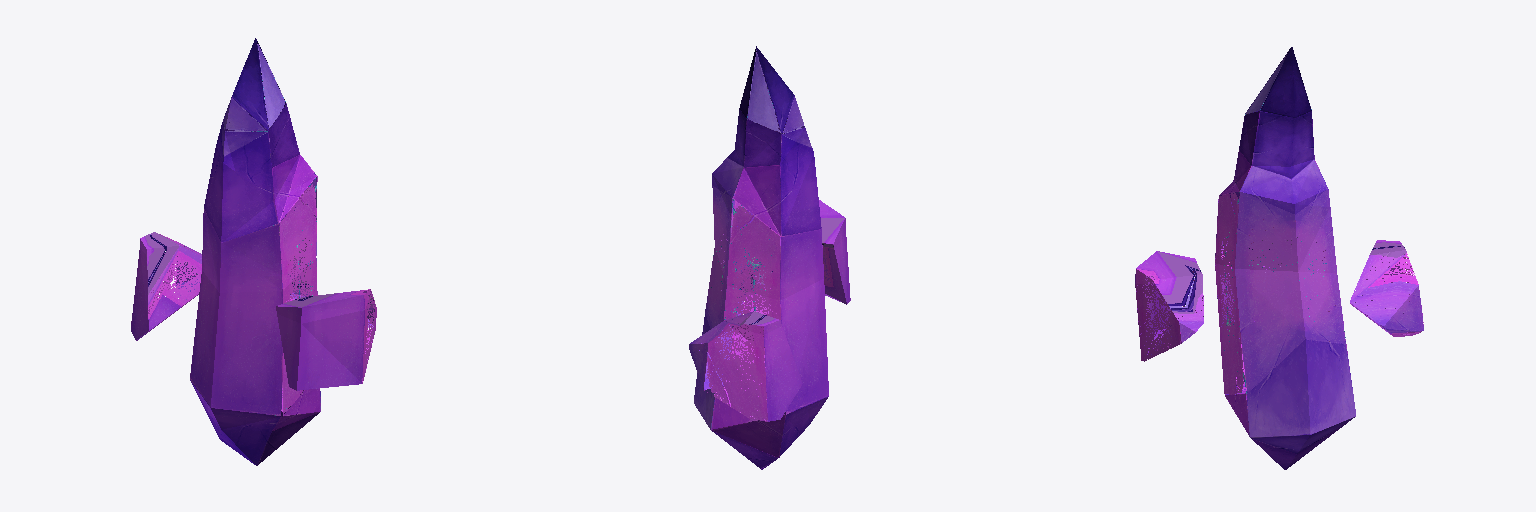
3 views of the same model, side by side, from view 1: azimuth 30°, elevation 25°; view 2: azimuth 150°, elevation 25°; view 3: azimuth 270°, elevation 25° (orthographic).
Parts seen in each view (by area): view 1: mage_focusingcrystal_creature0, mage_focusingcrystal_creature1; view 2: mage_focusingcrystal_creature0, mage_focusingcrystal_creature1; view 3: mage_focusingcrystal_creature1, mage_focusingcrystal_creature0.
Boxes of the visible parts, x1=… form: mage_focusingcrystal_creature0: x1=190, y1=38, x2=320, y2=465; mage_focusingcrystal_creature1: x1=131, y1=40, x2=376, y2=464; mage_focusingcrystal_creature0: x1=705, y1=46, x2=828, y2=469; mage_focusingcrystal_creature1: x1=689, y1=48, x2=850, y2=456; mage_focusingcrystal_creature1: x1=1135, y1=49, x2=1423, y2=469; mage_focusingcrystal_creature0: x1=1215, y1=47, x2=1355, y2=469.
Bounding box in the file's own units: 0.7057 × 2.02 × 1.25.
2 materials, 2 textured.